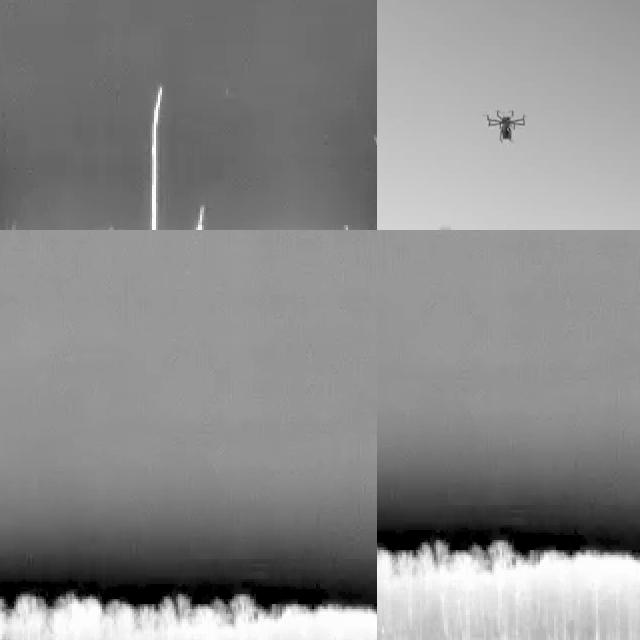0: (212, 79, 240, 111)
drone: (488, 100, 528, 147)
